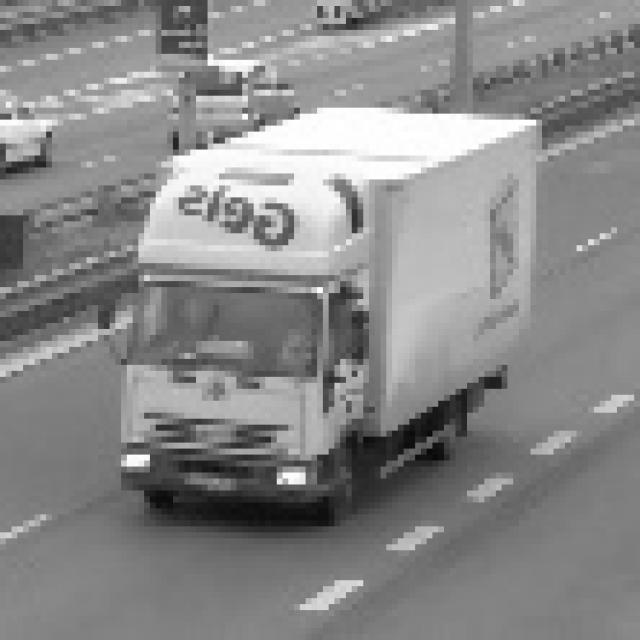truck: (92, 101, 530, 526)
